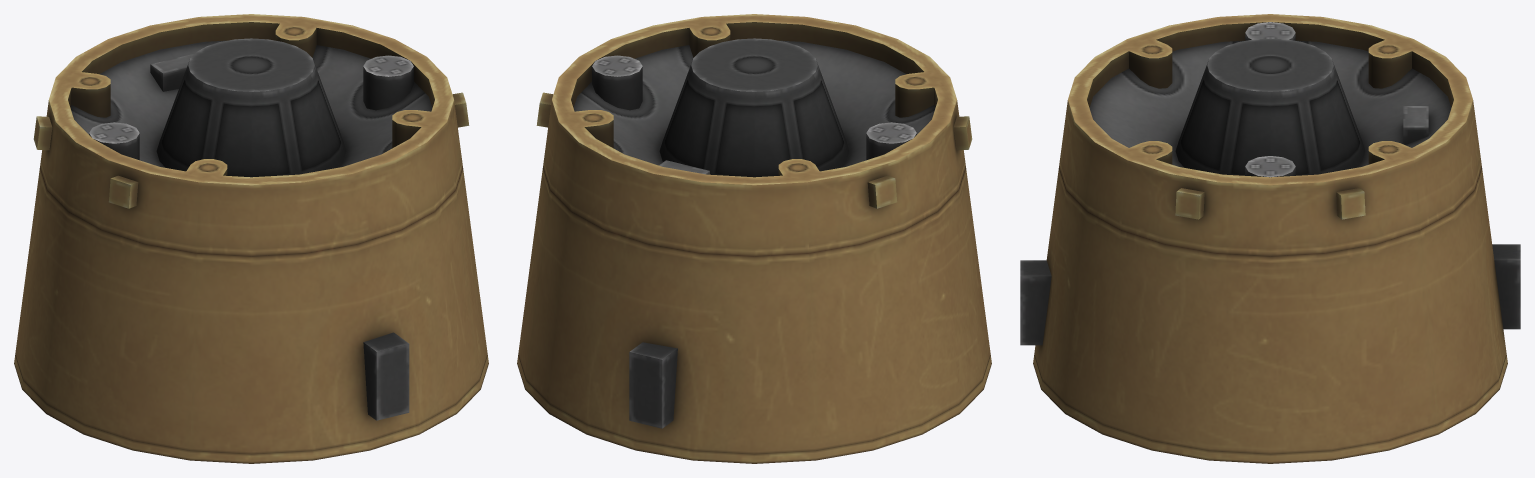
File: octans_basic_docking_port_s0p5_1_male.obj
3 views of the same model, side by side, from view 1: azimuth 30°, elevation 25°; view 2: azimuth 150°, elevation 25°; view 3: azimuth 270°, elevation 25° (orthographic).
Parts seen in each view (by area): view 1: mesh; view 2: mesh; view 3: mesh.
Part boxes in pixels (box(x1,y1,x2,y2)): mesh: box(14, 14, 488, 463); mesh: box(517, 14, 991, 463); mesh: box(1020, 14, 1520, 463).
Bounding box in the file's own units: 0.9375 × 0.65 × 0.9875.
